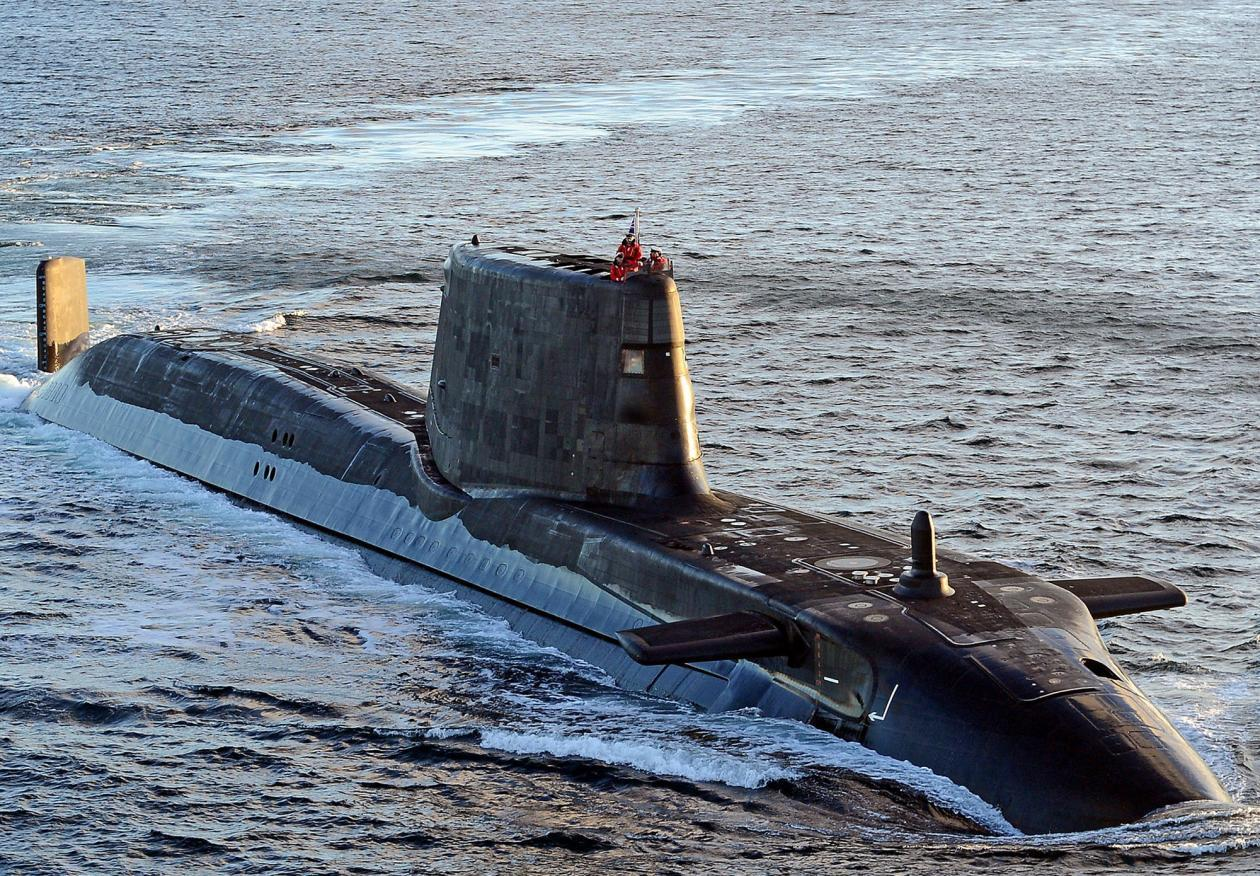Submarine: (0, 94, 1230, 852)
